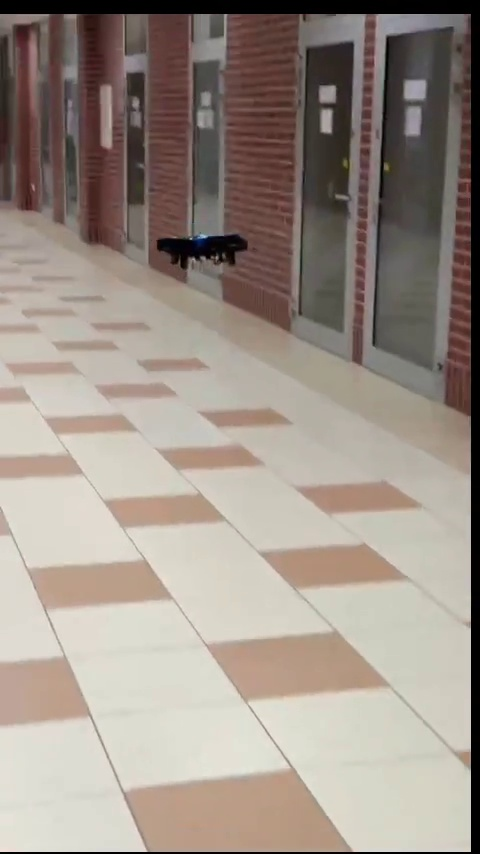drone: (162, 232, 248, 268)
